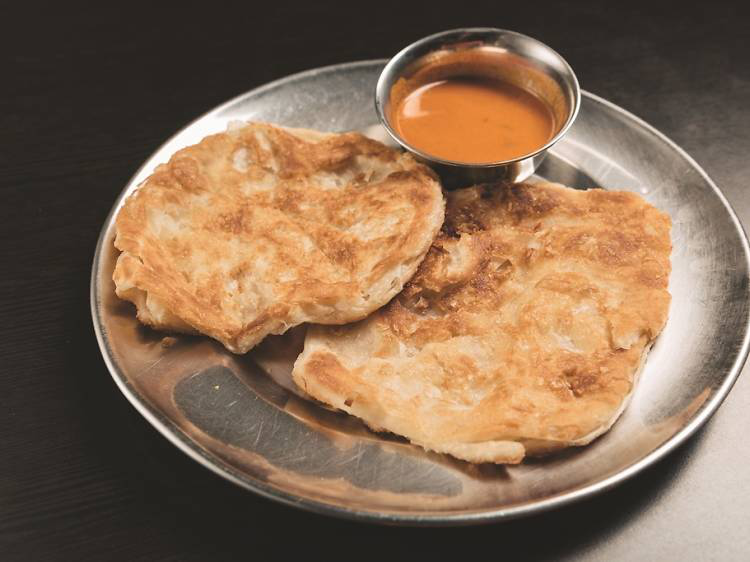Prata: (291, 165, 702, 463), (116, 134, 457, 329)
